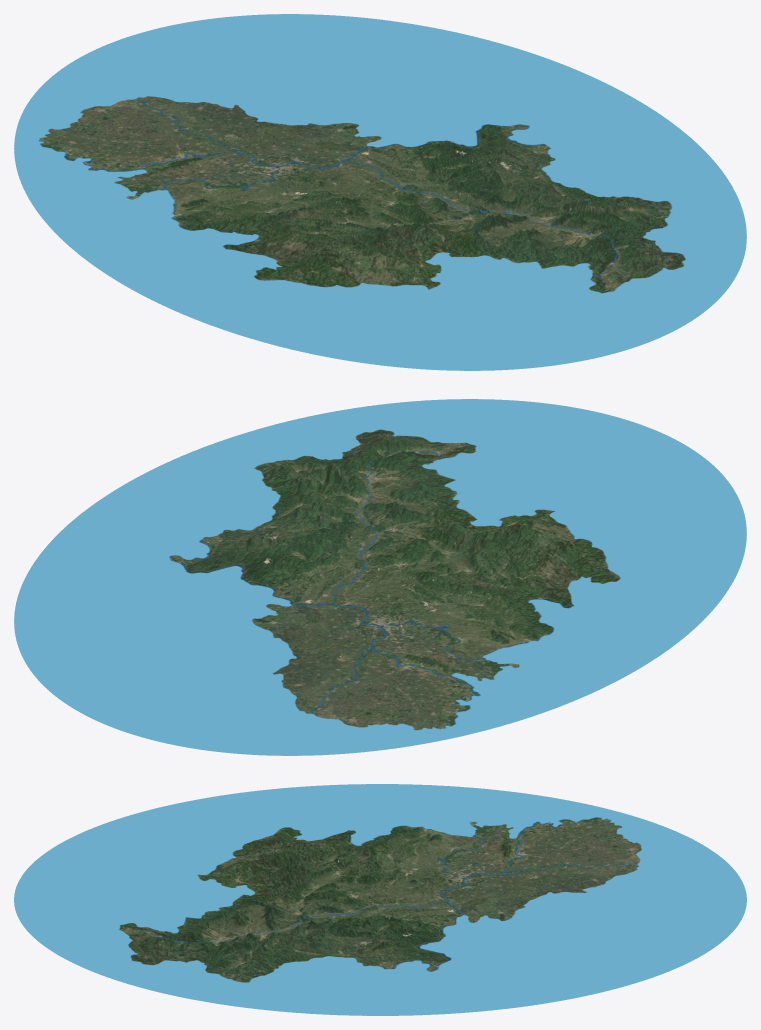
Rendered from SRB-previa-terrain.glb.
The picture shows the model from 3 angles, top to bottom: view 1: azimuth 30°, elevation 25°; view 2: azimuth 150°, elevation 25°; view 3: azimuth 270°, elevation 25°; orthographic projection. The views are drawn at different scales.
Parts seen in each view (by area): view 1: Sérvia; view 2: Sérvia; view 3: Sérvia.
Part boxes in pixels (bbox=[...]): Sérvia: bbox=[14, 14, 746, 370]; Sérvia: bbox=[14, 399, 746, 755]; Sérvia: bbox=[14, 784, 746, 1015].
Size of the model in its own units: 1.85 by 0.0562 by 2.47.
1 material, 1 textured.
